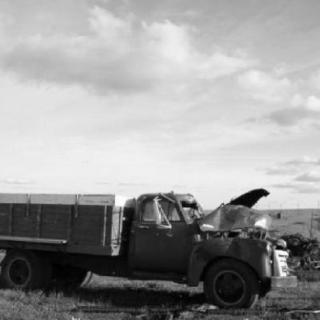Cirrostratus: (0, 0, 320, 215)
